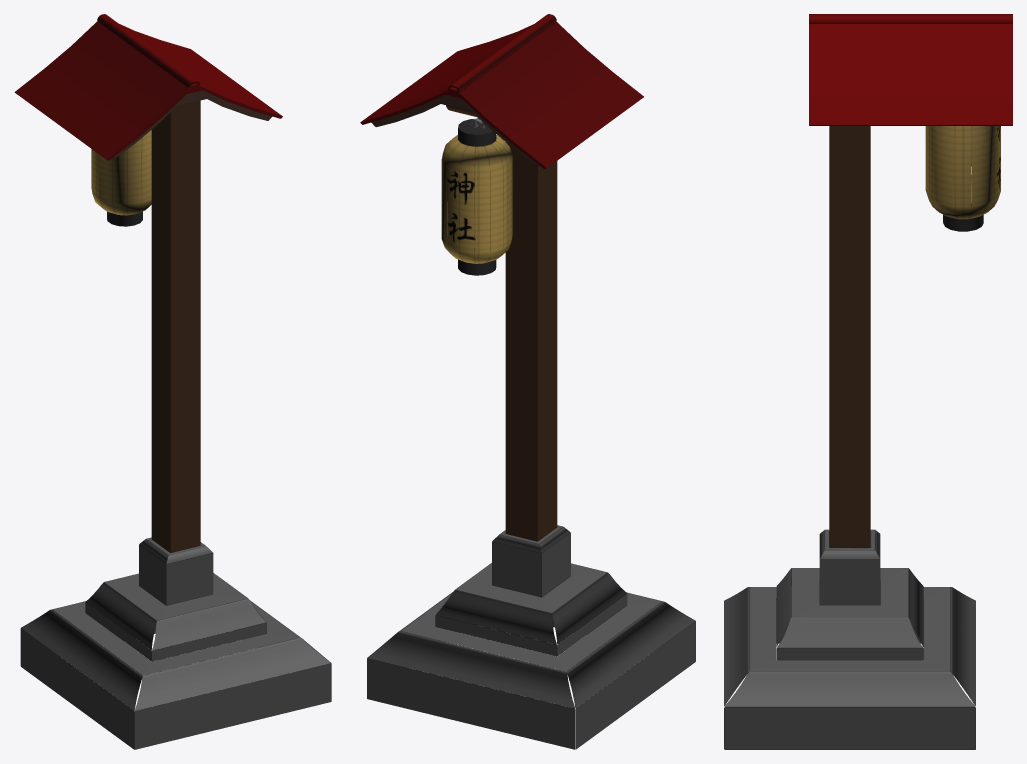
File: NNJ0310003.fbx
3 views of the same model, side by side, from view 1: azimuth 30°, elevation 25°; view 2: azimuth 150°, elevation 25°; view 3: azimuth 270°, elevation 25° (orthographic). The views are drawn at different scales.
Parts seen in each view (by area): view 1: smNNJ0310003; view 2: smNNJ0310003; view 3: smNNJ0310003.
Boxes of the visible parts, x1,y1,x2,y2 form: smNNJ0310003: [14, 14, 331, 749]; smNNJ0310003: [360, 14, 695, 749]; smNNJ0310003: [724, 14, 1012, 749].
Size of the model in its own units: 99.22 by 296 by 114.
Materials: 1 (1 with a texture image).
